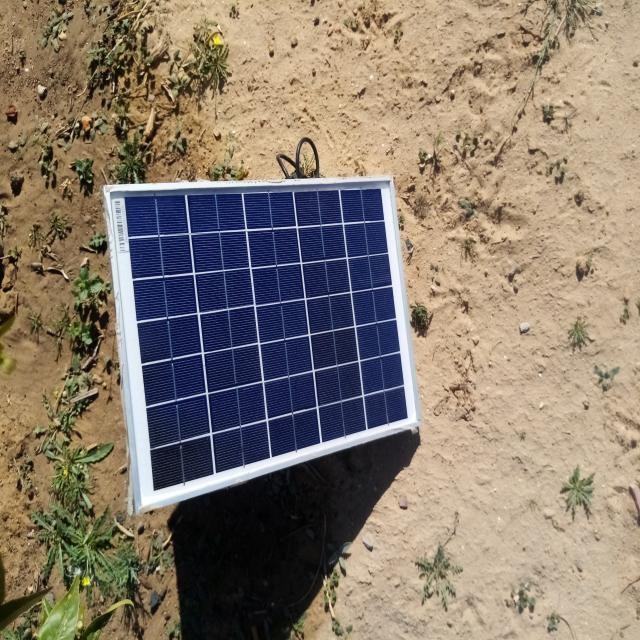Normal Solar Panel: (108, 181, 418, 509)
